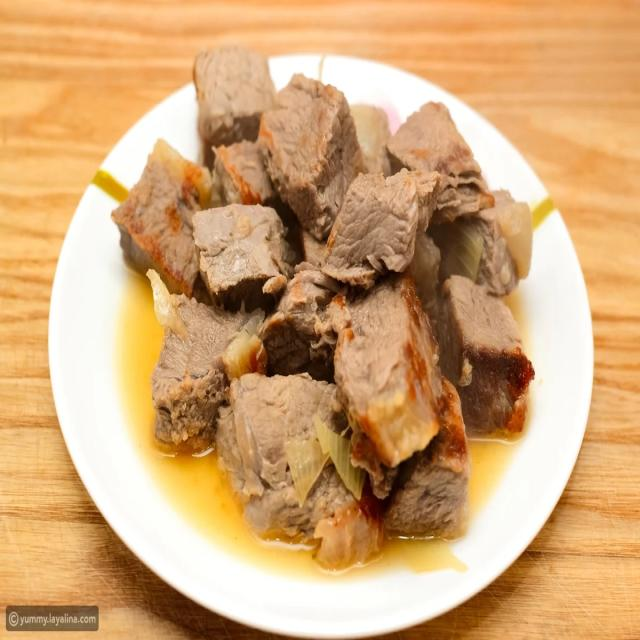Carne: (110, 42, 535, 570)
